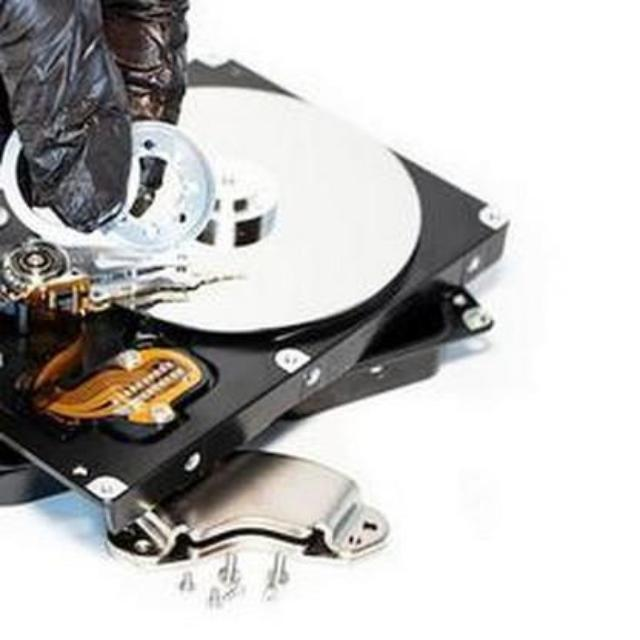DISK: (0, 38, 480, 520)
